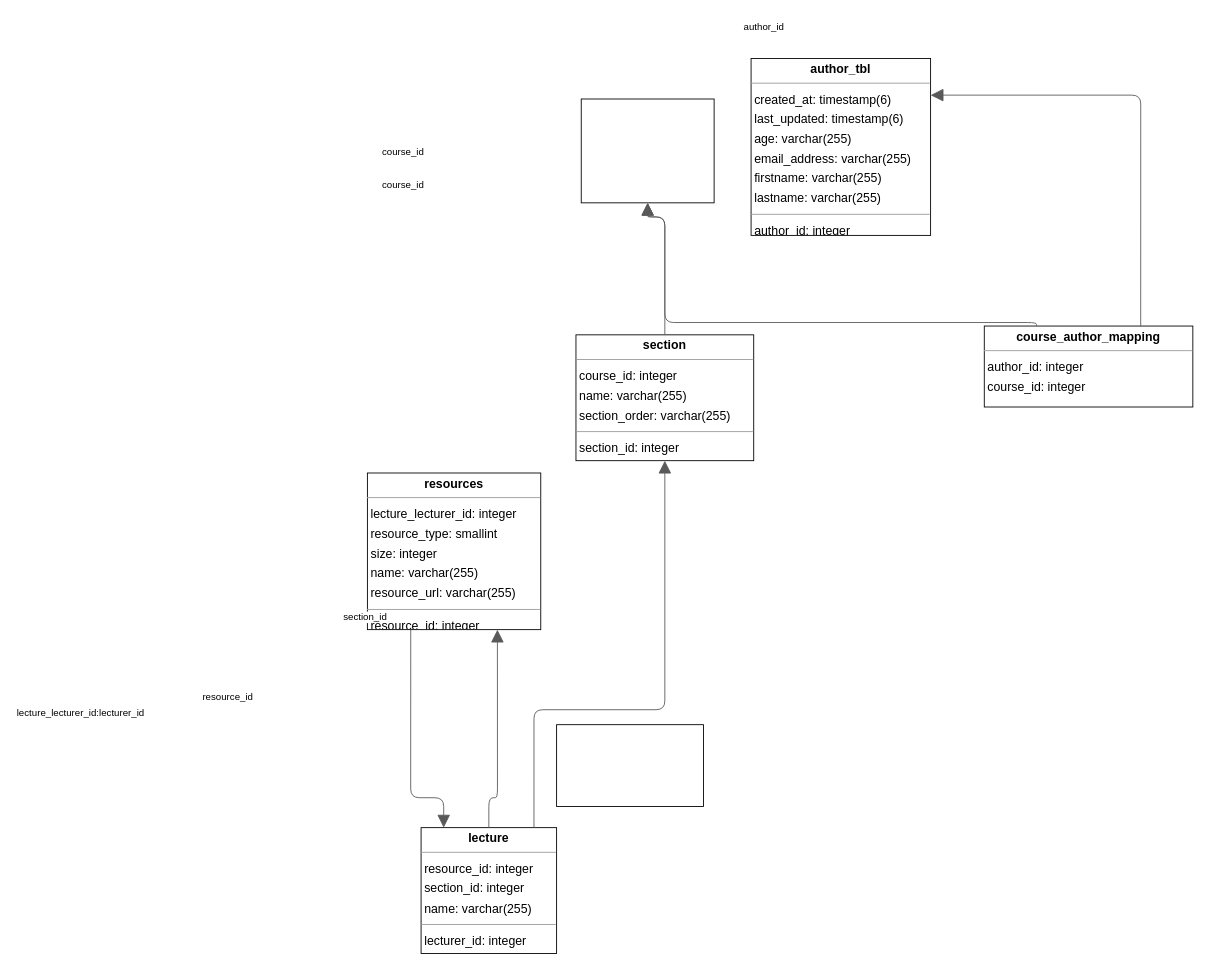
The diagram is 1208 pixels wide and 969 high, and some of its shapes have lost their labels. Here are the shapes that lost their labels. From the top down, the centre of each, then its label:
At point 647,150: "course description: integer title: integer course_id: integer".
At point 630,765: "id_generator next_val: bigint id_name: varchar(255)".
